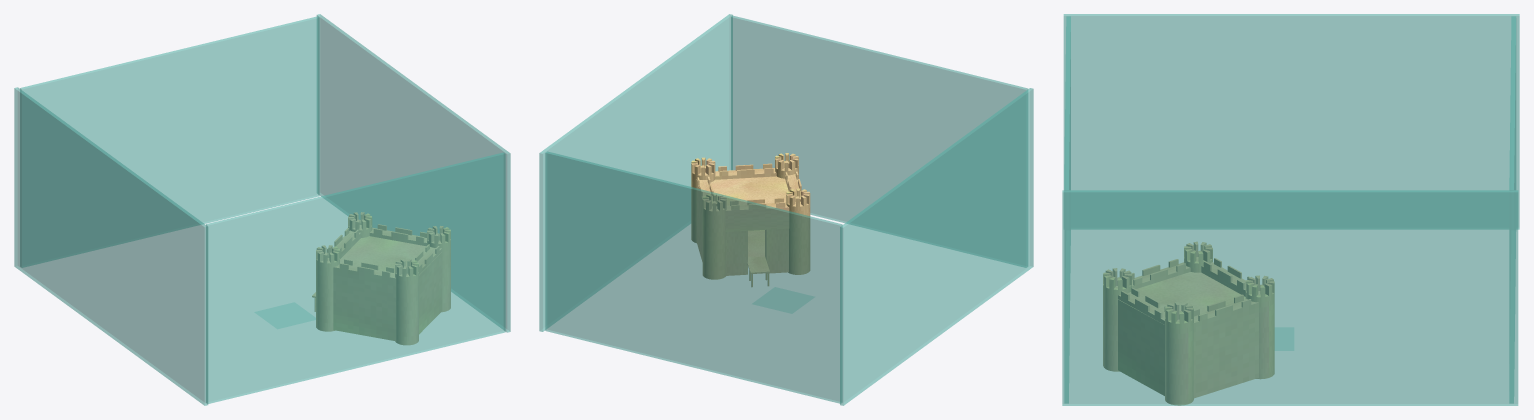
Rendered from fishtank.fbx.
3 views of the same model, side by side, from view 1: azimuth 30°, elevation 25°; view 2: azimuth 150°, elevation 25°; view 3: azimuth 270°, elevation 25° (orthographic). The views are drawn at different scales.
Parts seen in each view (by area): view 1: pCube16, pCube15, pCube13, pCube14, nurbsCube1_topnurbsCube1; view 2: pCube15, pCube16, pCube13, pCube14, nurbsCube1_topnurbsCube1; view 3: pCube14, pCube13, nurbsCube1_topnurbsCube1, pCube15, pCube16.
Boxes of the visible parts, x1,y1,x2,y2 form: pCube16: (206,152,505,403); pCube15: (20,16,319,267); pCube13: (14,87,208,405); pCube14: (316,14,510,332); nurbsCube1_topnurbsCube1: (312,212,450,344); pCube15: (545,151,842,403); pCube16: (731,15,1027,267); pCube13: (840,88,1033,405); pCube14: (539,14,732,331); nurbsCube1_topnurbsCube1: (691,153,810,286); pCube14: (1062,190,1518,405); pCube13: (1063,14,1519,229); nurbsCube1_topnurbsCube1: (1103,242,1274,405); pCube15: (1509,16,1516,403); pCube16: (1064,16,1070,403).
Bounding box in the file's own units: 7.48 × 4.47 × 8.11.
Materials: 2 (1 with a texture image).
